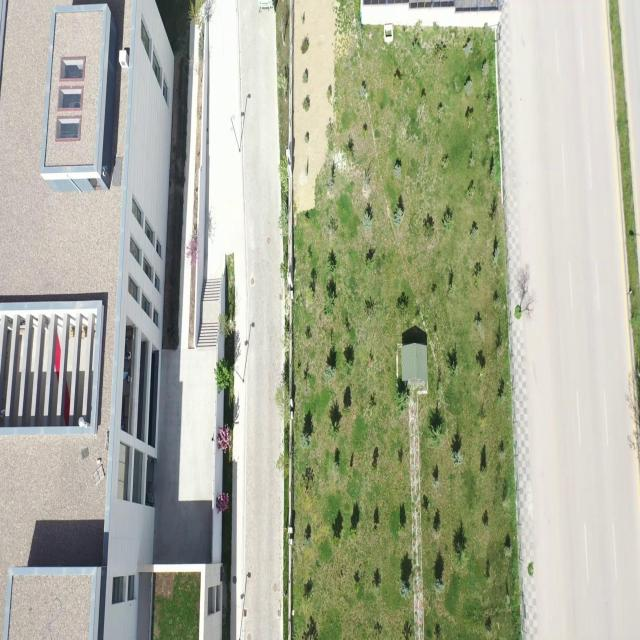p3rson: (125, 349, 132, 362), (123, 367, 130, 380)
